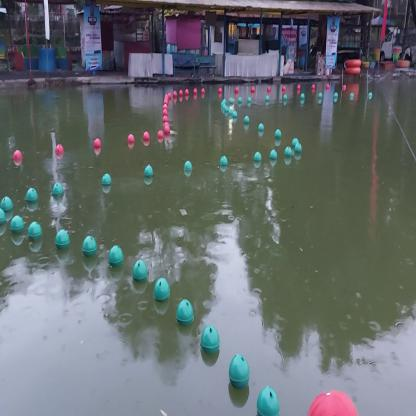green_buoy: (226, 352, 250, 389), (172, 294, 196, 330), (254, 383, 280, 416), (199, 320, 220, 356), (152, 274, 171, 303), (130, 255, 150, 282), (106, 243, 126, 269), (80, 233, 100, 258), (54, 227, 71, 251), (8, 214, 24, 238), (27, 216, 43, 240), (49, 178, 67, 199), (0, 191, 14, 214), (25, 185, 38, 208), (98, 172, 114, 188), (143, 163, 154, 181), (183, 160, 194, 174), (293, 143, 304, 156), (252, 150, 262, 164), (269, 148, 278, 163), (283, 145, 292, 159), (219, 154, 228, 168), (0, 207, 7, 225), (257, 121, 265, 132), (274, 128, 282, 139), (292, 136, 299, 146)
red_buoy: (12, 148, 23, 165), (54, 142, 65, 157), (142, 129, 151, 144), (127, 132, 135, 146), (161, 118, 171, 129), (157, 127, 164, 142), (93, 136, 101, 149), (163, 126, 171, 137)
